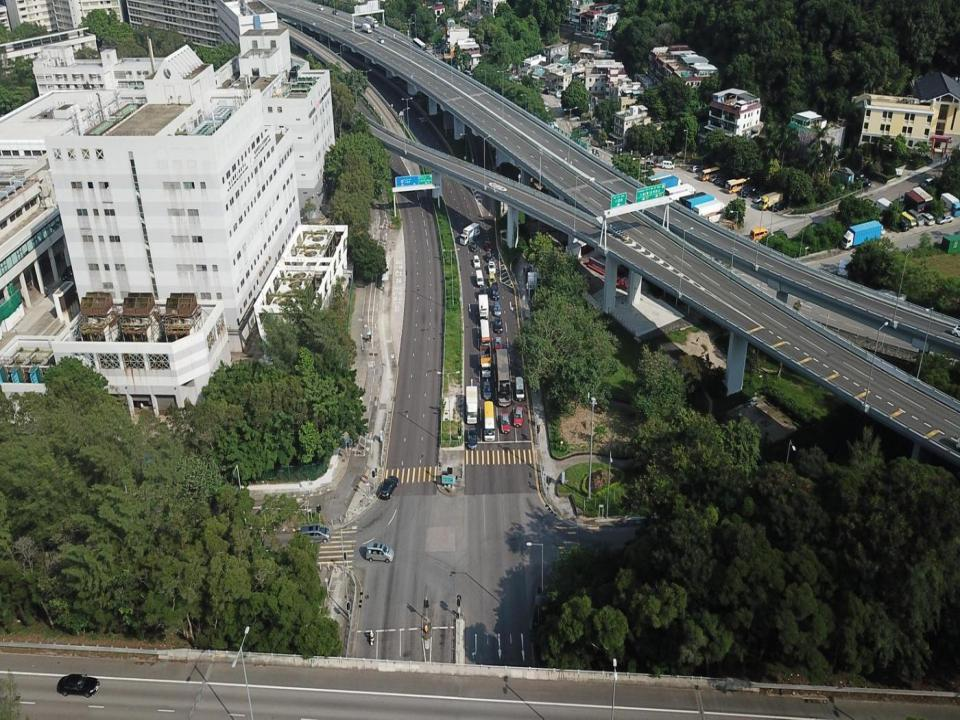bus: (495, 348, 512, 407), (483, 400, 495, 442), (725, 177, 748, 194), (479, 317, 490, 350), (699, 165, 721, 181), (900, 210, 917, 229), (412, 38, 428, 57)
car: (56, 672, 100, 698), (378, 474, 398, 500), (872, 196, 894, 218), (749, 226, 771, 245), (851, 172, 872, 188), (466, 426, 478, 450), (770, 198, 788, 213), (513, 404, 524, 428), (500, 411, 511, 434), (873, 217, 886, 236), (919, 211, 935, 226), (936, 213, 955, 225), (752, 191, 767, 206), (894, 218, 910, 232), (919, 176, 934, 189), (482, 381, 492, 400), (742, 185, 756, 198), (494, 315, 503, 334), (492, 299, 502, 316), (481, 240, 493, 253), (576, 127, 589, 139), (494, 335, 502, 353), (488, 271, 497, 287), (719, 176, 732, 187), (736, 186, 749, 196), (488, 260, 496, 275), (472, 254, 480, 269), (574, 122, 586, 132), (478, 286, 486, 299), (470, 240, 478, 253), (568, 114, 581, 122), (708, 174, 720, 182), (714, 176, 724, 185), (485, 250, 492, 262), (331, 8, 339, 16), (317, 4, 324, 12)
truck: (840, 220, 882, 252), (692, 200, 727, 226), (679, 191, 710, 217), (685, 194, 718, 218), (701, 206, 736, 228), (663, 182, 697, 204), (898, 190, 926, 216), (653, 175, 683, 195), (938, 190, 960, 217), (912, 185, 934, 212), (758, 189, 784, 211), (646, 172, 673, 193), (458, 222, 480, 246), (465, 386, 478, 423), (669, 190, 694, 209), (479, 344, 492, 378), (478, 294, 490, 323), (364, 15, 379, 29), (362, 22, 372, 34)
van: (365, 542, 394, 564), (300, 524, 330, 544), (907, 207, 925, 226), (514, 376, 526, 402), (491, 281, 501, 299), (724, 178, 738, 190), (475, 269, 484, 286), (661, 160, 676, 170), (644, 159, 657, 168), (689, 164, 703, 172), (377, 36, 385, 44)
